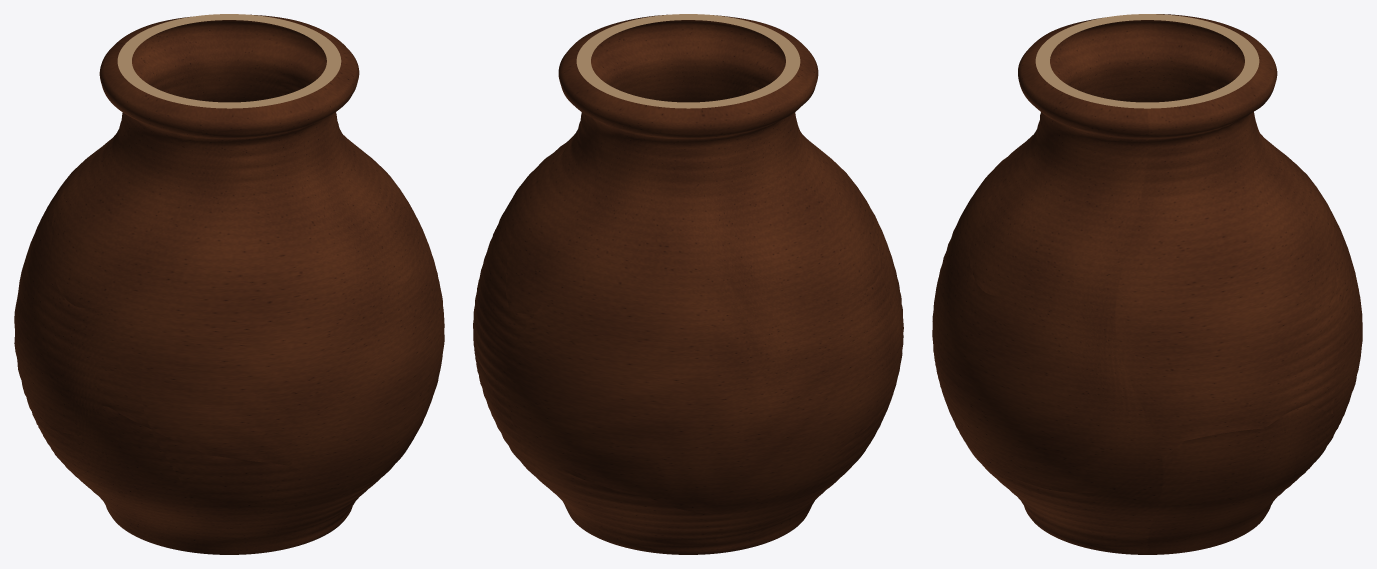
Rendered from restoration_vessel.glb.
3 renders of one model, left to right at view 1: azimuth 30°, elevation 25°; view 2: azimuth 150°, elevation 25°; view 3: azimuth 270°, elevation 25°, orthographic.
Visible parts, largest first — view 1: shard_1_2, shard_2_1, shard_2_2, shard_1_1, shard_0_2, shard_0_1, shard_2_0; view 2: shard_1_1, shard_2_1, shard_2_2, shard_0_1, shard_2_0, shard_1_0, shard_0_0; view 3: shard_1_2, shard_1_0, shard_2_2, shard_2_0, shard_2_1, shard_0_0, shard_0_2, shard_1_1.
Part boxes in pixels (x1,y1,x2,y2): shard_1_2: [140, 143, 444, 490]; shard_2_1: [50, 15, 210, 308]; shard_2_2: [199, 37, 415, 285]; shard_1_1: [14, 143, 198, 435]; shard_0_2: [151, 429, 408, 554]; shard_0_1: [36, 406, 202, 553]; shard_2_0: [201, 14, 350, 141]; shard_1_1: [505, 164, 903, 514]; shard_2_1: [535, 47, 880, 313]; shard_2_2: [581, 14, 826, 156]; shard_0_1: [512, 336, 903, 554]; shard_2_0: [505, 37, 615, 314]; shard_1_0: [473, 136, 572, 420]; shard_0_0: [475, 359, 597, 537]; shard_1_2: [932, 133, 1161, 492]; shard_1_0: [1115, 202, 1339, 458]; shard_2_2: [970, 29, 1149, 296]; shard_2_0: [1135, 74, 1337, 311]; shard_2_1: [1057, 14, 1340, 286]; shard_0_0: [1147, 404, 1332, 554]; shard_0_2: [982, 459, 1163, 554]; shard_1_1: [1271, 143, 1362, 418].
Size of the model in its own units: 1.41 by 1.6 by 1.41.
2 materials, 1 textured.
